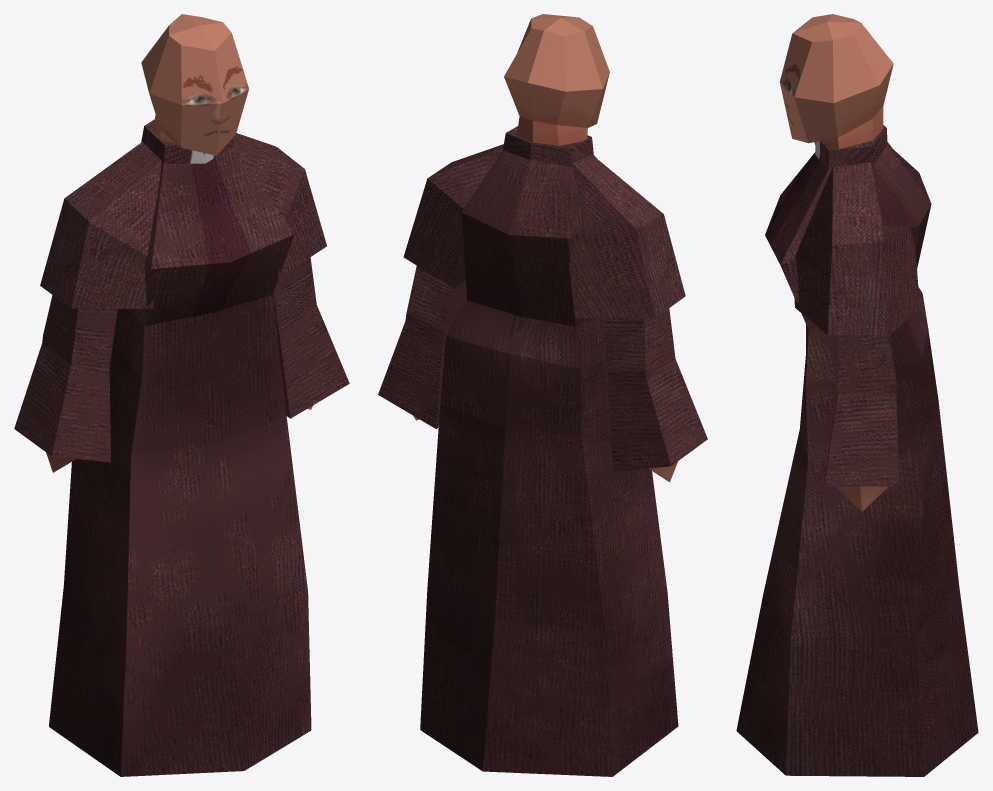
Rendered from Child_Priest.fbx.
The picture shows the model from 3 angles, left to right: view 1: azimuth 30°, elevation 25°; view 2: azimuth 150°, elevation 25°; view 3: azimuth 270°, elevation 25°; orthographic projection.
Visible parts, largest first — view 1: polySurface13, polySurface15, polySurface14, polySurface16; view 2: polySurface13, polySurface15, polySurface14, polySurface16; view 3: polySurface13, polySurface14, polySurface16.
Part boxes in pixels (bbox=[...]): polySurface13: bbox=[49, 119, 311, 776]; polySurface15: bbox=[14, 142, 161, 472]; polySurface14: bbox=[232, 133, 349, 418]; polySurface16: bbox=[141, 14, 248, 155]; polySurface13: bbox=[420, 126, 678, 776]; polySurface15: bbox=[568, 154, 707, 482]; polySurface14: bbox=[378, 144, 503, 429]; polySurface16: bbox=[504, 14, 609, 145]; polySurface13: bbox=[736, 125, 978, 776]; polySurface14: bbox=[794, 162, 919, 511]; polySurface16: bbox=[780, 14, 893, 148].
Bounding box in the file's own units: 18.76 × 42.82 × 13.25.
Materials: 1 (1 with a texture image).
